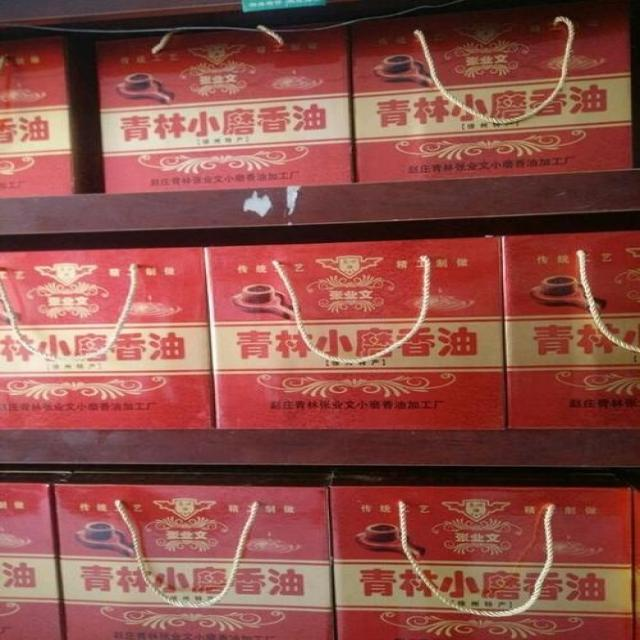box: (206, 235, 507, 428), (349, 7, 631, 185), (328, 474, 631, 639), (51, 473, 337, 640), (95, 21, 353, 193), (0, 248, 214, 429), (503, 229, 640, 428), (0, 34, 97, 195), (0, 470, 72, 640), (623, 474, 640, 640)
